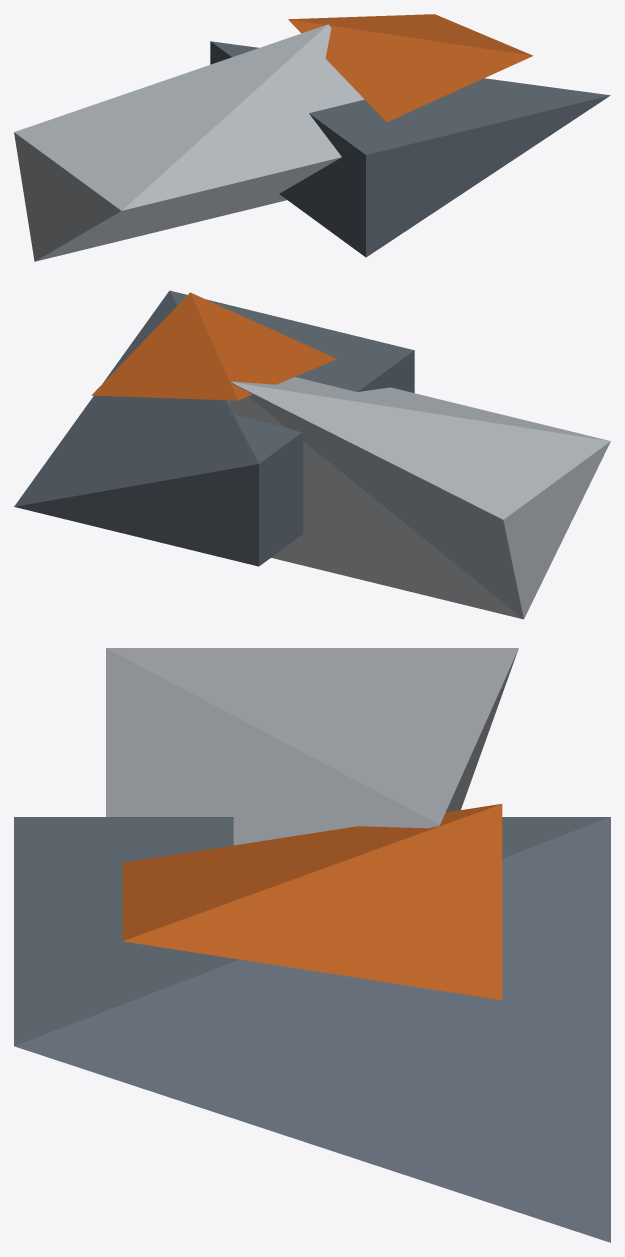
Rendered from prosthesis-hand.lod.glb.
The picture shows the model from 3 angles, top to bottom: view 1: azimuth 30°, elevation 25°; view 2: azimuth 150°, elevation 25°; view 3: azimuth 270°, elevation 25°; orthographic projection. The views are drawn at different scales.
Visible parts, largest first — view 1: prosthesis-hand; view 2: prosthesis-hand; view 3: prosthesis-hand.
Boxes of the visible parts, x1,y1,x2,y2 form: prosthesis-hand: (14, 14, 610, 261); prosthesis-hand: (14, 290, 610, 619); prosthesis-hand: (14, 648, 610, 1242).
Bounding box in the file's own units: 0.19 × 0.0647 × 0.11.
